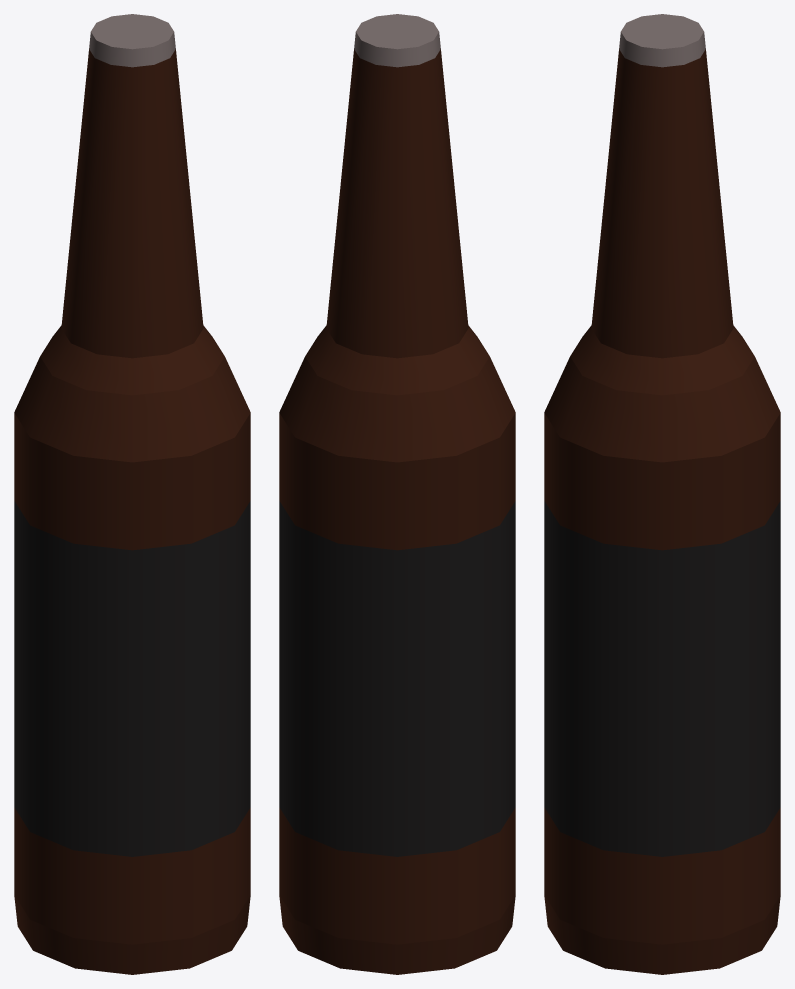
File: Beer Bottle.FBX
3 renders of one model, left to right at view 1: azimuth 30°, elevation 25°; view 2: azimuth 150°, elevation 25°; view 3: azimuth 270°, elevation 25°, orthographic.
Parts seen in each view (by area): view 1: Bottle; view 2: Bottle; view 3: Bottle.
Boxes of the visible parts, x1,y1,x2,y2 form: Bottle: (14, 14, 250, 974); Bottle: (279, 14, 515, 974); Bottle: (544, 14, 780, 974).
Size of the model in its own units: 2.08 by 8.7 by 2.08.
